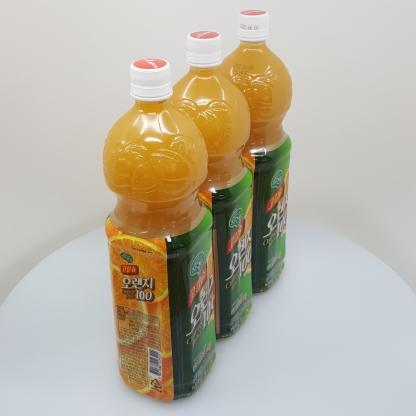--------1-5L: (103, 58, 216, 402), (168, 31, 253, 340), (218, 10, 293, 294)
